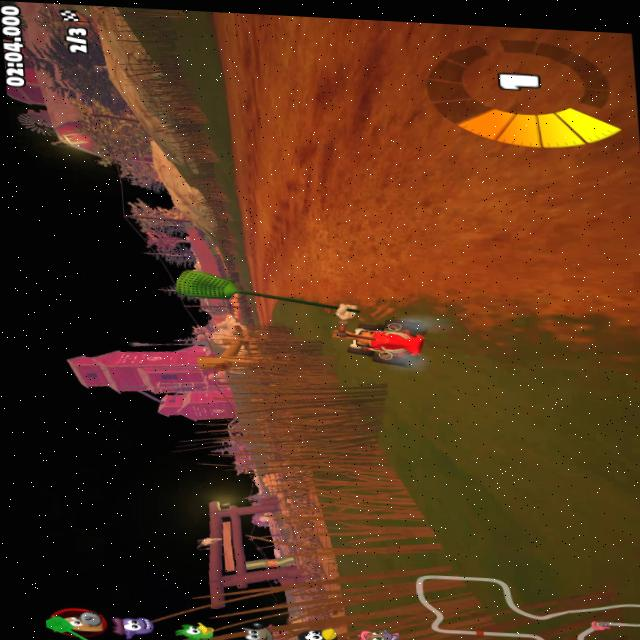player_kart: (338, 309, 439, 362)
track: (338, 19, 640, 313), (264, 14, 351, 298), (228, 12, 285, 272), (240, 271, 277, 319)
